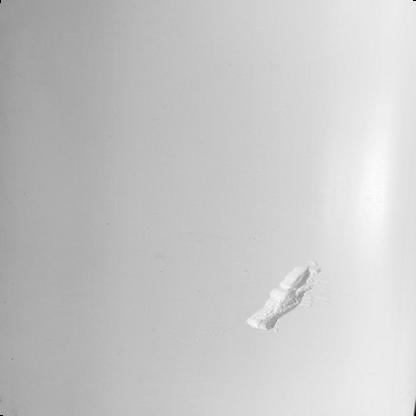sunshang: (248, 265, 318, 331)
